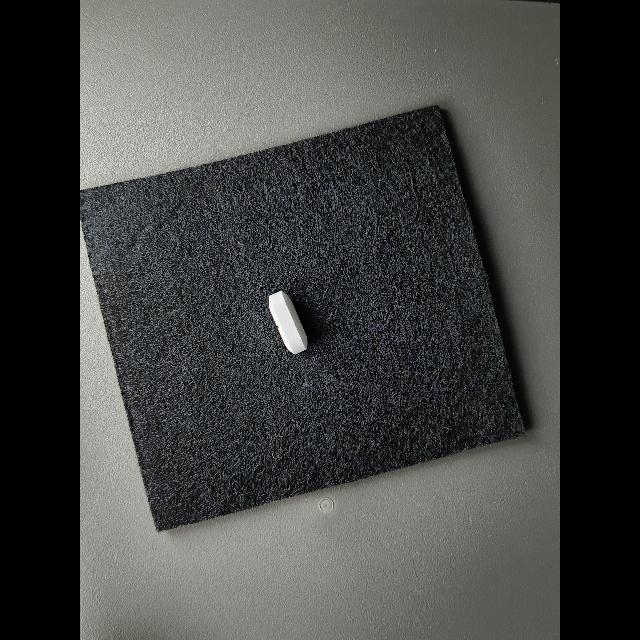Intact Pill: (269, 290, 308, 355)
